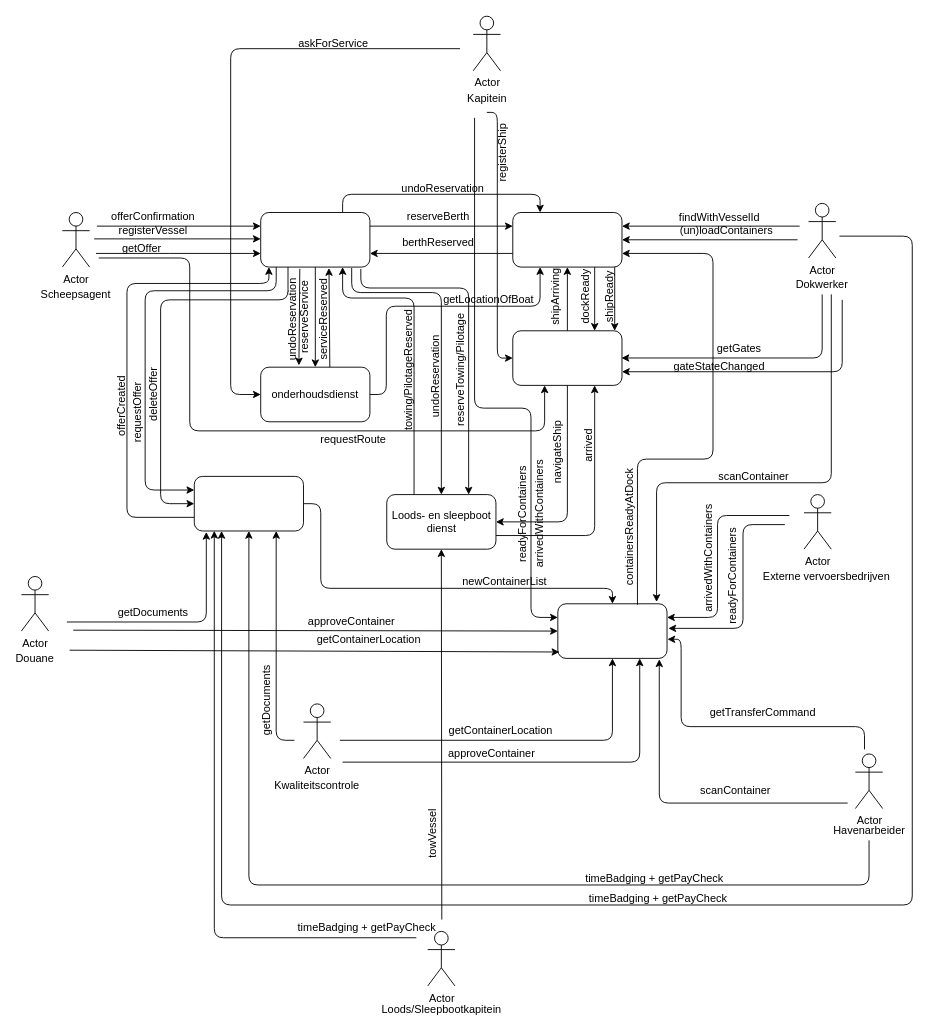
The diagram is 935 pixels wide and 1036 high, and some of its shapes have lost their labels. The centre of each missing label's shape, as x and y in pixels:
Administratie: the point at 248,503
containerbeheer en transport: the point at 612,630
kapiteinsdienst: the point at 315,239
Ligplaats- en dokbeheer: the point at 567,239
Vessel trafic control: the point at 567,357
